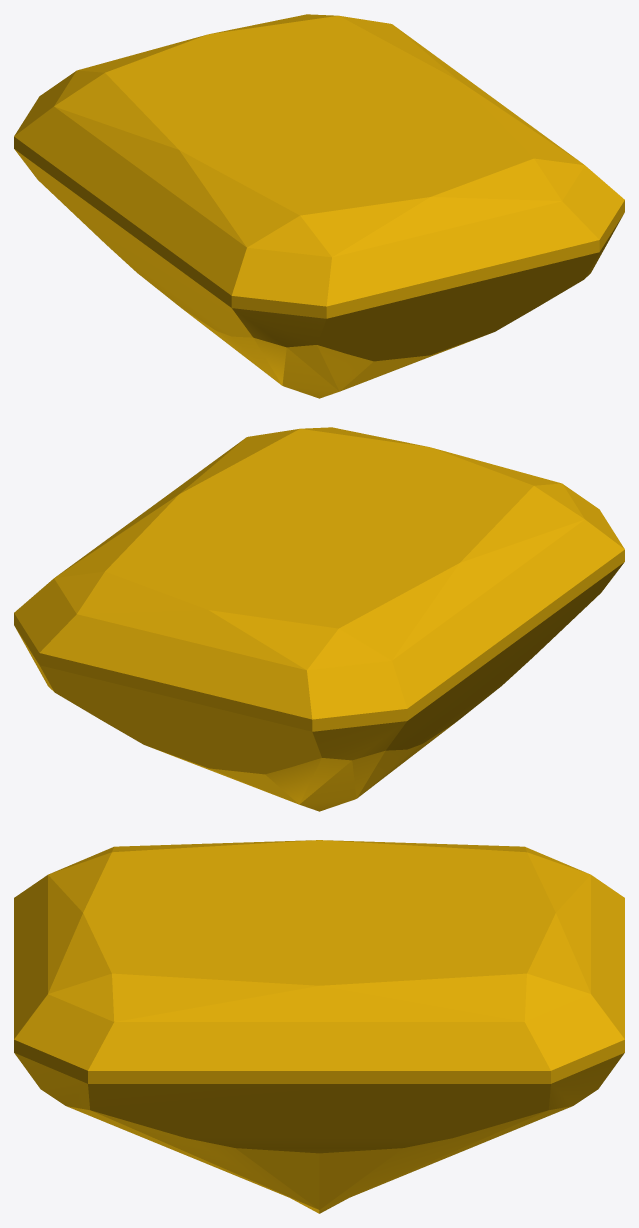
File: RadiantDiamondElongated.glb
3 views of the same model, one above another, from view 1: azimuth 30°, elevation 25°; view 2: azimuth 150°, elevation 25°; view 3: azimuth 270°, elevation 25° (orthographic). The views are drawn at different scales.
Parts seen in each view (by area): view 1: RingBuilderStan_Radiant001; view 2: RingBuilderStan_Radiant001; view 3: RingBuilderStan_Radiant001.
Part boxes in pixels (x1=…): RingBuilderStan_Radiant001: x1=14, y1=14, x2=624, y2=398; RingBuilderStan_Radiant001: x1=14, y1=427, x2=624, y2=811; RingBuilderStan_Radiant001: x1=14, y1=840, x2=624, y2=1213.
Size of the model in its own units: 50.6 by 34.79 by 64.
